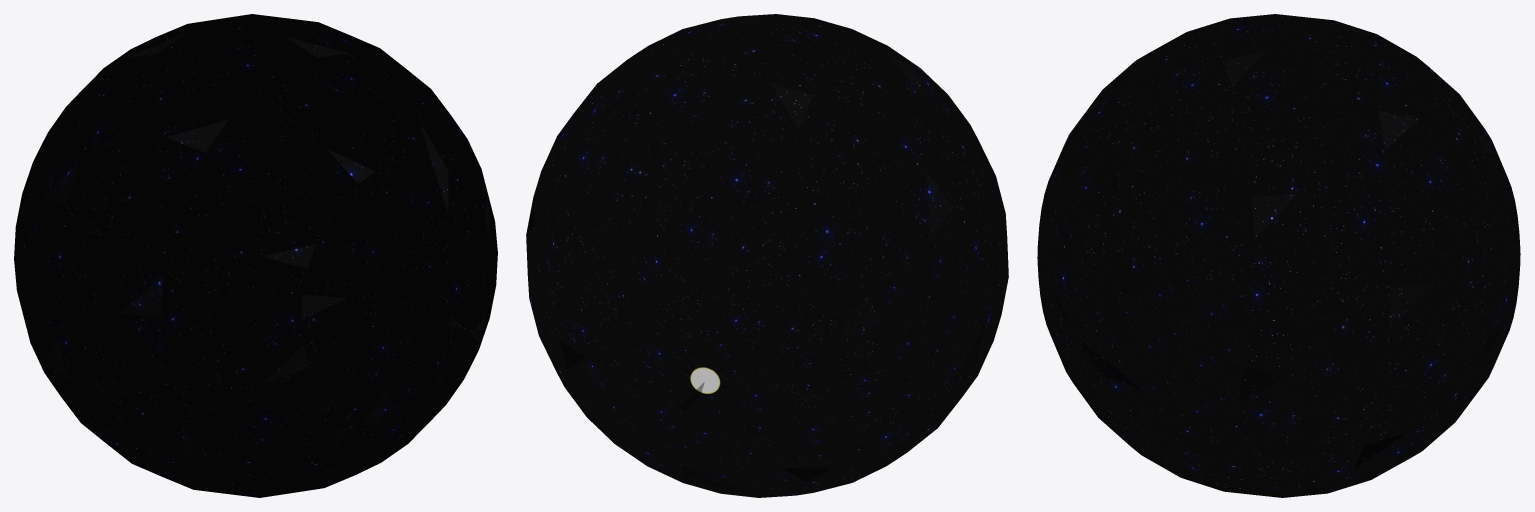
File: stg610_sky.obj
The picture shows the model from 3 angles, left to right: view 1: azimuth 30°, elevation 25°; view 2: azimuth 150°, elevation 25°; view 3: azimuth 270°, elevation 25°; orthographic projection.
Parts seen in each view (by area): view 1: polygon0; view 2: polygon0, polygon1; view 3: polygon0.
Boxes of the visible parts, box(x1,y1,x2,y2) form: polygon0: box(14, 14, 497, 497); polygon0: box(526, 14, 1008, 497); polygon1: box(690, 367, 720, 393); polygon0: box(1037, 14, 1520, 497).
Size of the model in its own units: 28682 by 28598 by 28677.
Materials: 6 (6 with a texture image).
